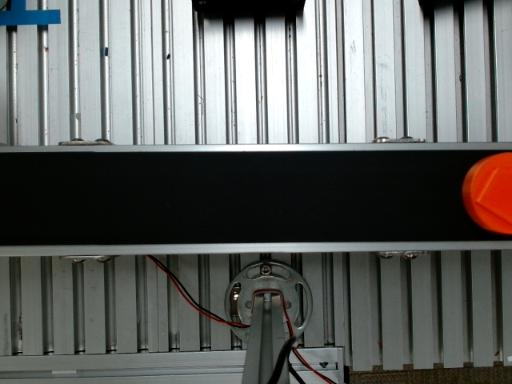Orange_Waper: (462, 153, 511, 234)
